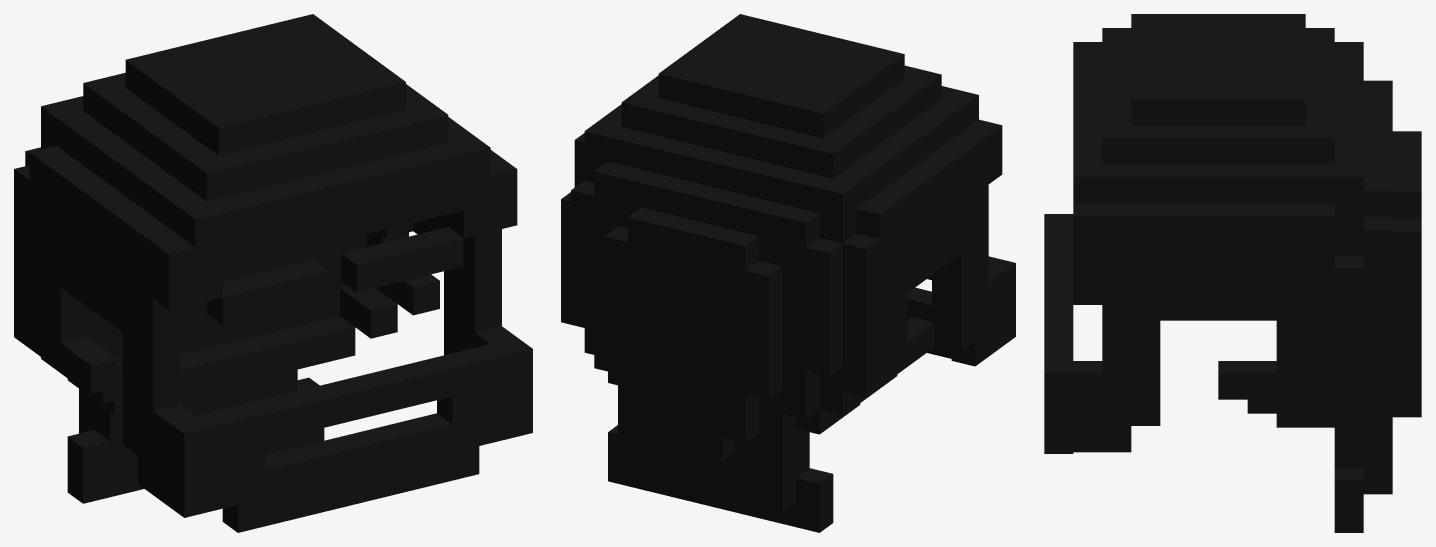
Rendered from Union_15.fbx.
3 views of the same model, side by side, from view 1: azimuth 30°, elevation 25°; view 2: azimuth 150°, elevation 25°; view 3: azimuth 270°, elevation 25° (orthographic). The views are drawn at different scales.
Parts seen in each view (by area): view 1: Union_15; view 2: Union_15; view 3: Union_15.
Part boxes in pixels (x1,y1,x2,y2): Union_15: (14,14,532,532); Union_15: (561,14,1015,532); Union_15: (1044,14,1421,532).
Bounding box in the file's own units: 13 × 16 × 13.
Materials: 1 (1 with a texture image).
